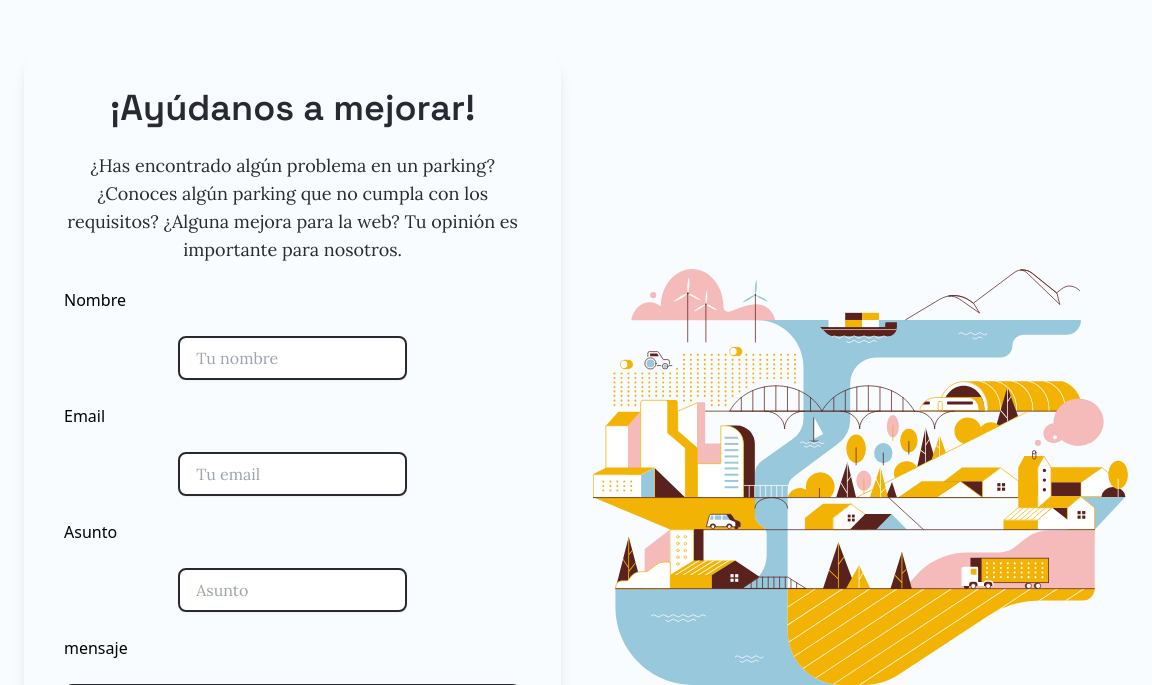
it: Formulario de contacto › envía un aviso de rellenar campos cuando falta alguno de los campos
Type "John Doe" into the field labelled "Nombre" at (293, 358), box [178,336,407,380]
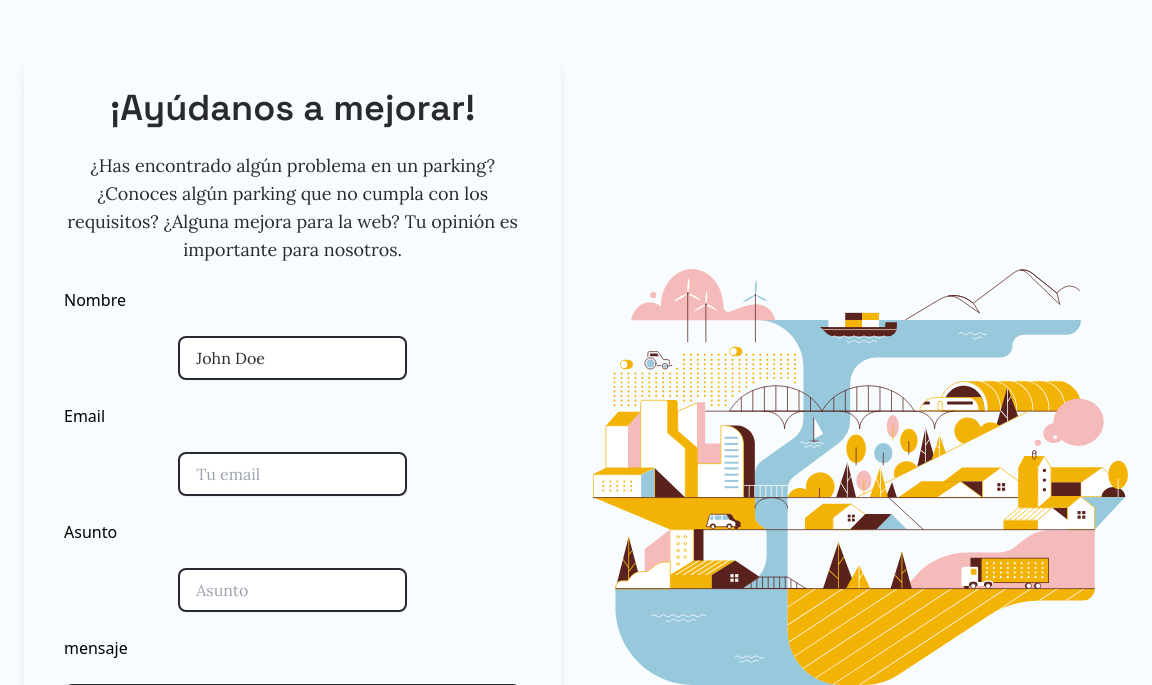
Type "johndoe@example.com" into the field labelled "Email" at (293, 474), box [178,452,407,496]
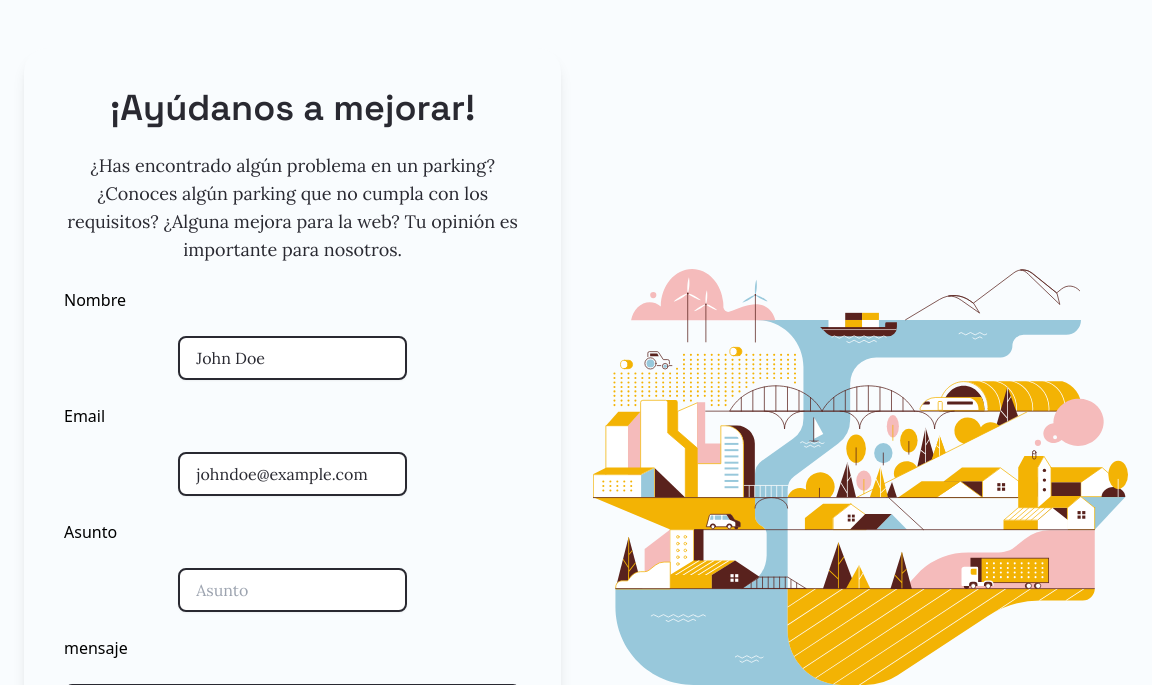
Clear the field labelled "Asunto" at (293, 590), box [178,568,407,612]
(page scrolled)
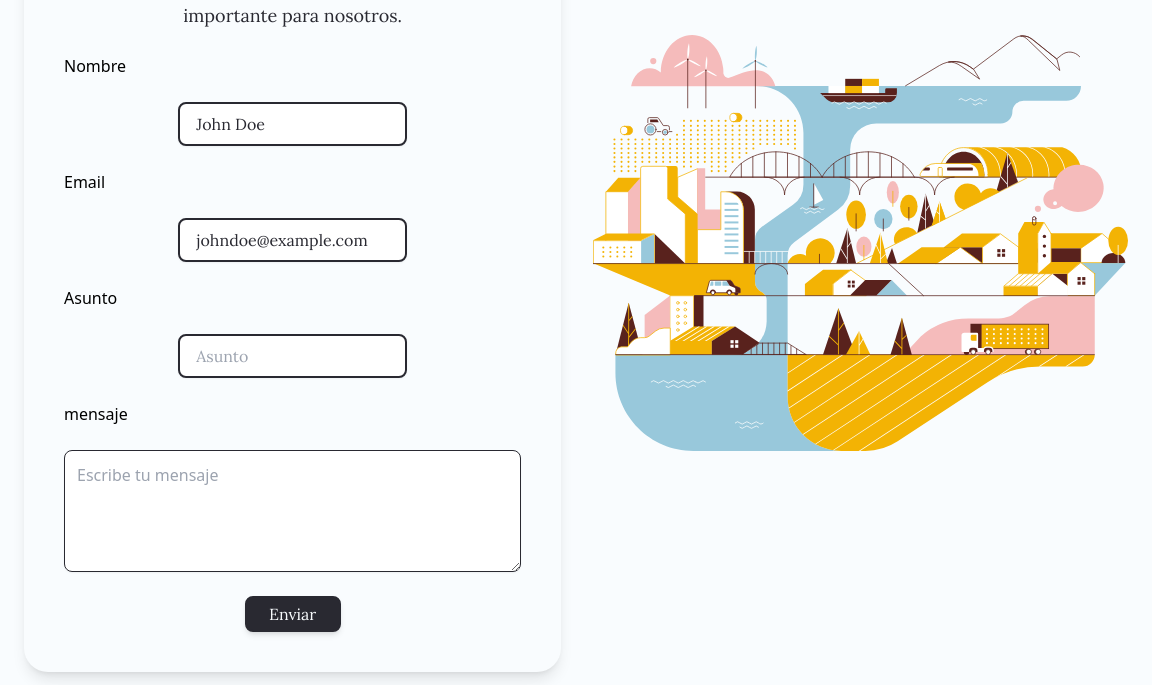
Type "Este es un mensaje de prueba." into the text box labelled "mensaje" at (293, 511), box [64,450,521,572]
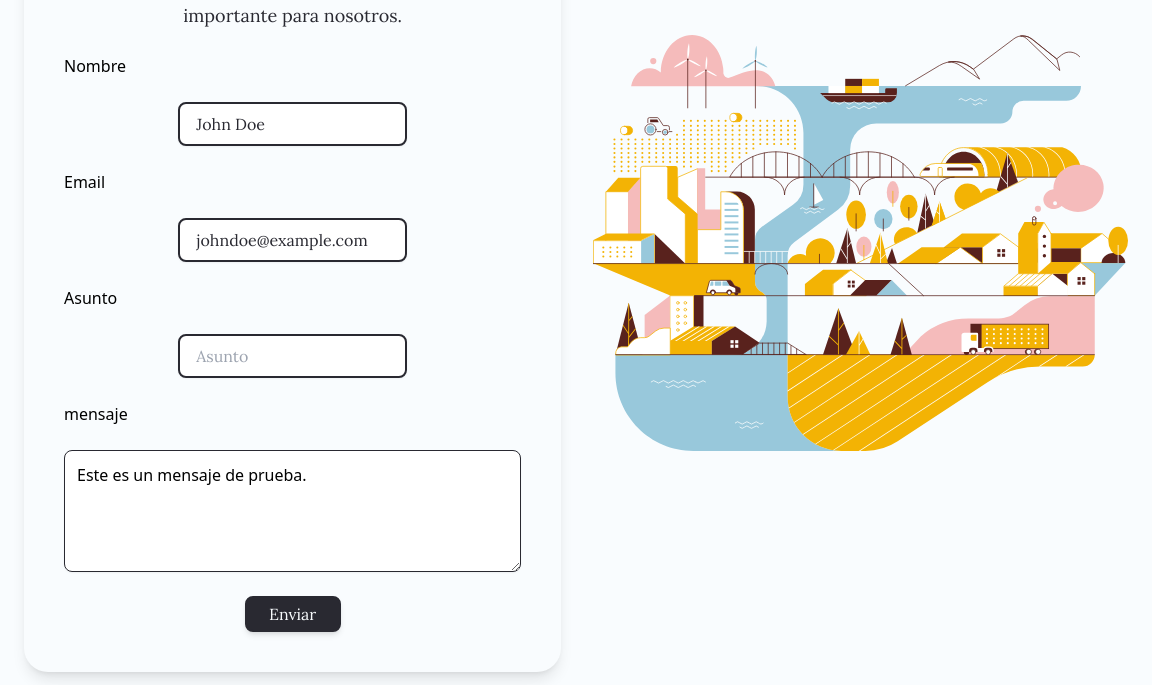
Click the button "Enviar" at (293, 614), box [245,596,341,632]
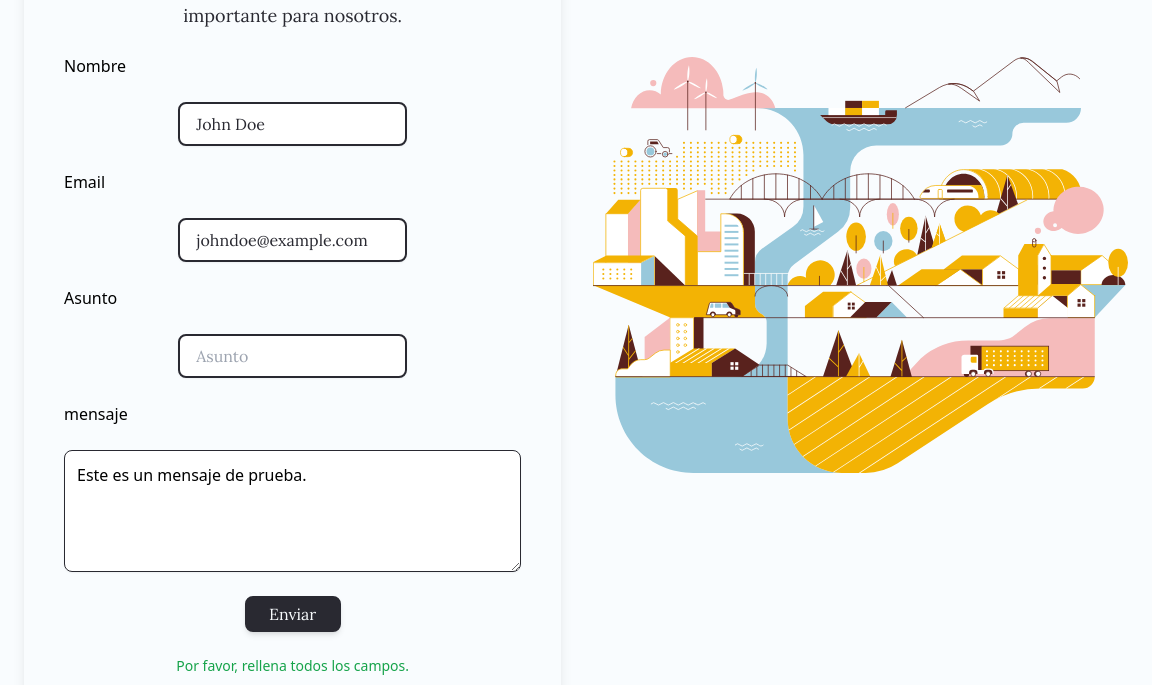
expect the text "Por favor, rellena todos los campos." is shown: met, box [176,656,409,675]
